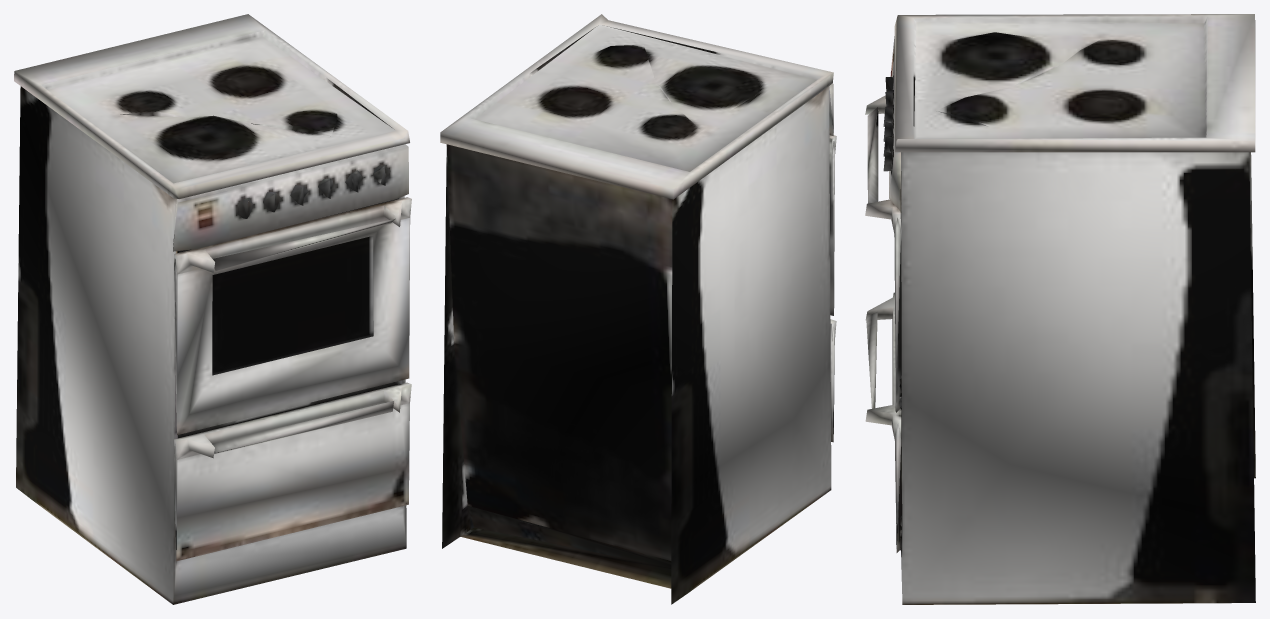
File: stove.glb
3 renders of one model, left to right at view 1: azimuth 30°, elevation 25°; view 2: azimuth 150°, elevation 25°; view 3: azimuth 270°, elevation 25°, orthographic. The views are drawn at different scales.
Parts seen in each view (by area): view 1: lo; view 2: lo; view 3: lo.
Boxes of the visible parts, x1=… form: lo: x1=14, y1=14, x2=411, y2=604; lo: x1=440, y1=14, x2=836, y2=604; lo: x1=865, y1=14, x2=1255, y2=604.
Size of the model in its own units: 0.5023 by 0.8547 by 0.6487.
1 material, 1 textured.
